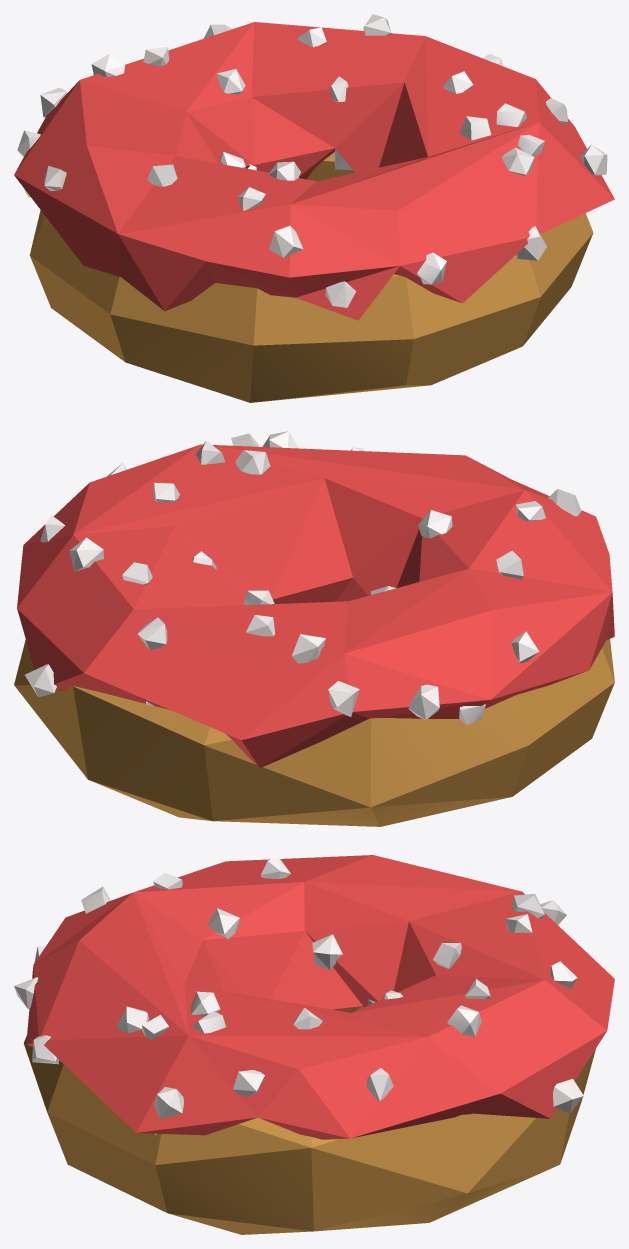
The model's file is donut.obj.
3 renders of one model, top to bottom at view 1: azimuth 30°, elevation 25°; view 2: azimuth 150°, elevation 25°; view 3: azimuth 270°, elevation 25°, orthographic. The views are drawn at different scales.
Visible parts, largest first — view 1: Sphere.001_Mesh; view 2: Sphere.001_Mesh; view 3: Sphere.001_Mesh.
Part boxes in pixels (bbox=[...]): Sphere.001_Mesh: bbox=[14, 14, 614, 402]; Sphere.001_Mesh: bbox=[14, 431, 614, 826]; Sphere.001_Mesh: bbox=[14, 855, 614, 1234].
Bounding box in the file's own units: 0.1617 × 0.0649 × 0.1652.
